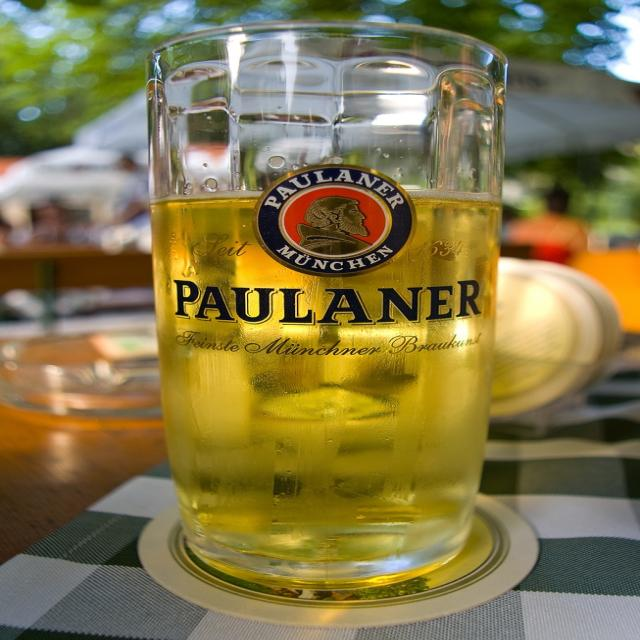paulaner: (254, 167, 416, 278)
